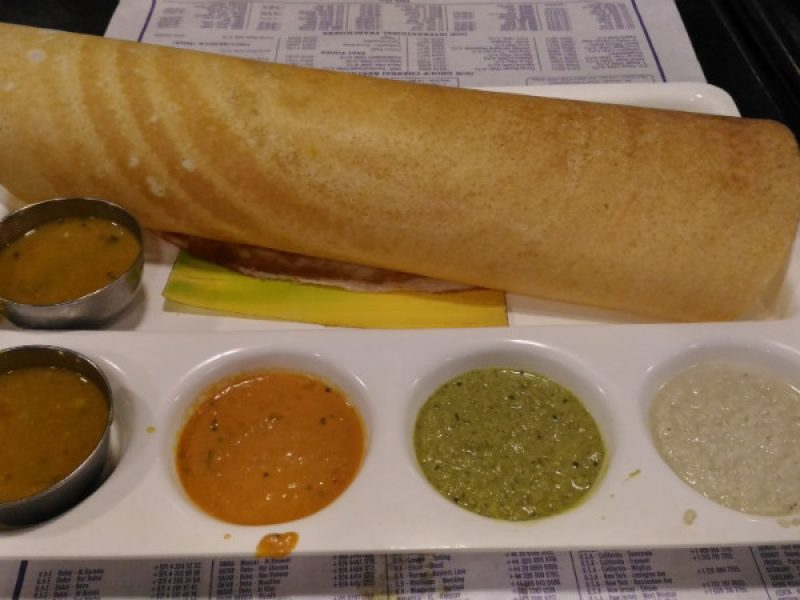dosa: (2, 19, 800, 323)
